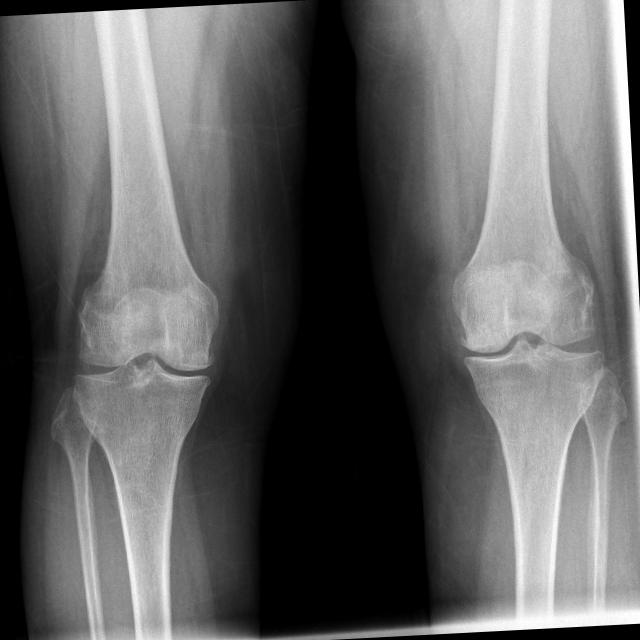Knee: (448, 271, 606, 417), (70, 286, 223, 428)
